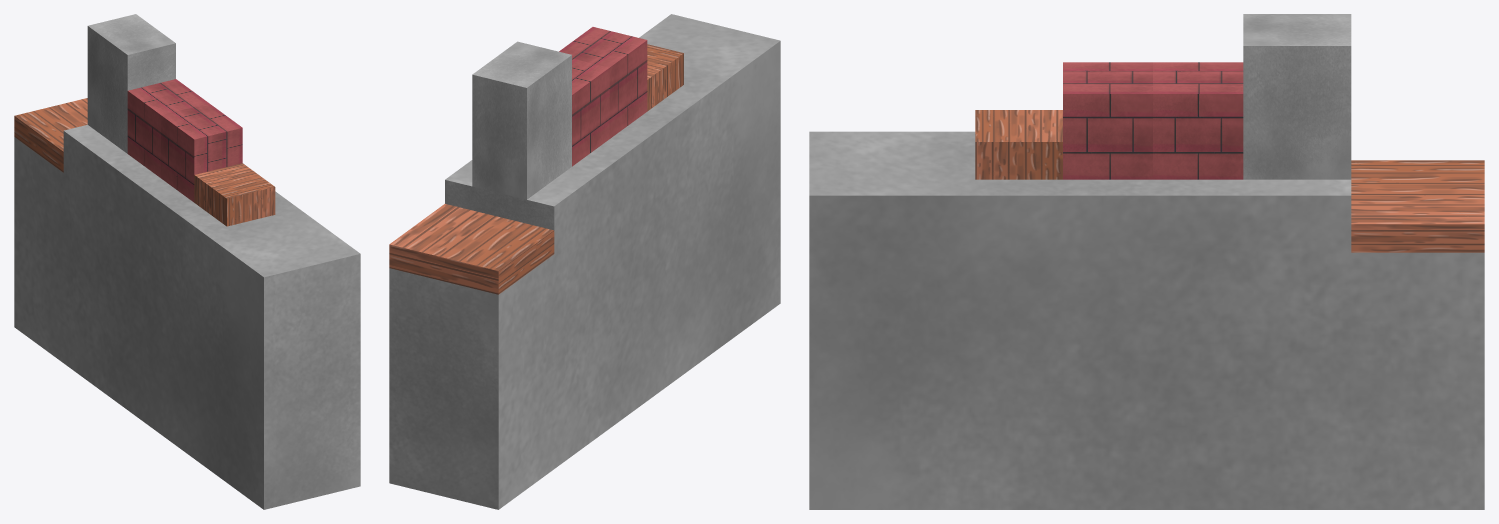
Rendered from construct.fbx.
3 views of the same model, side by side, from view 1: azimuth 30°, elevation 25°; view 2: azimuth 150°, elevation 25°; view 3: azimuth 270°, elevation 25° (orthographic). The views are drawn at different scales.
Parts seen in each view (by area): view 1: construct; view 2: construct; view 3: construct.
Boxes of the visible parts, x1,y1,x2,y2 form: construct: (14,14,360,509); construct: (389,14,780,509); construct: (809,14,1484,509).
Size of the model in its own units: 2084 by 6824 by 9316.
Materials: 1 (1 with a texture image).
